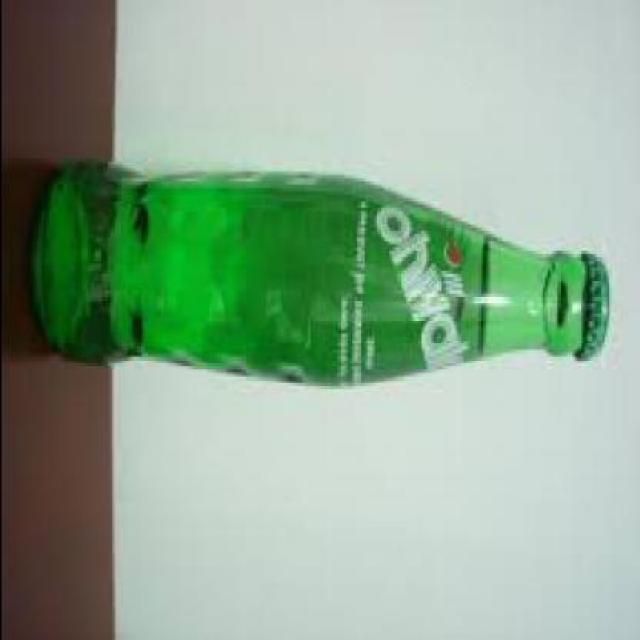glass: (31, 159, 594, 383)
metal: (578, 251, 612, 352)
